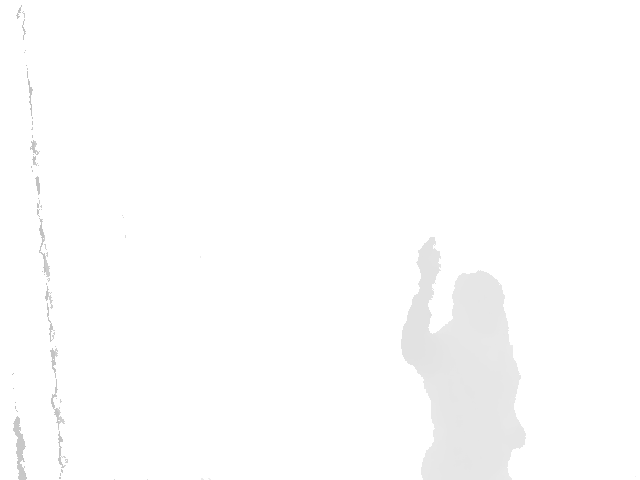hand: (416, 236, 441, 285)
head: (451, 270, 506, 336)
person: (400, 236, 527, 480)
